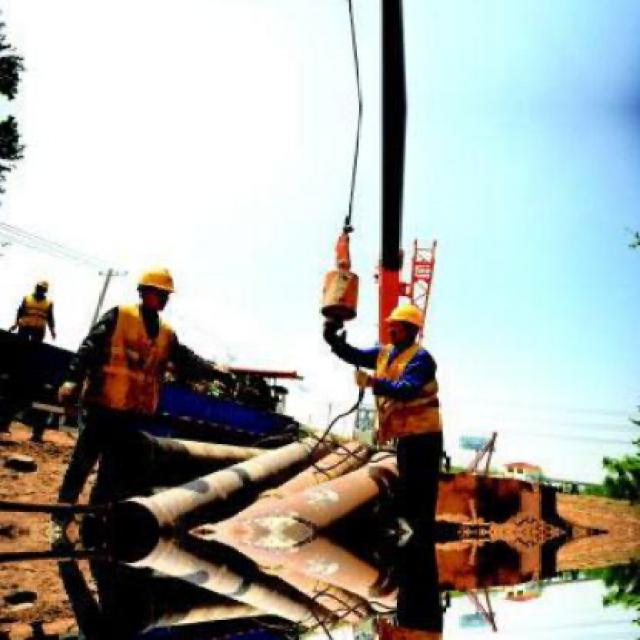helmet: (136, 262, 178, 316), (383, 299, 425, 349), (32, 279, 54, 302)
